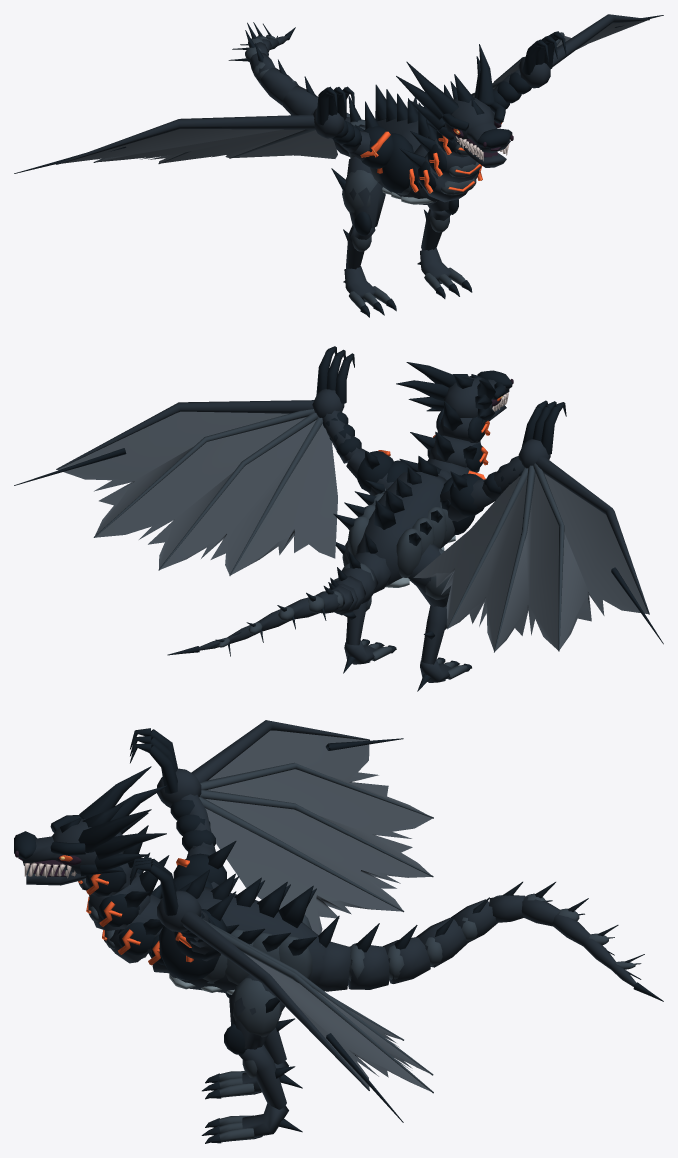
File: Obsidian_West_assembly.obj
3 renders of one model, top to bottom at view 1: azimuth 30°, elevation 25°; view 2: azimuth 150°, elevation 25°; view 3: azimuth 270°, elevation 25°, orthographic. The views are drawn at different scales.
Parts seen in each view (by area): view 1: Head, Torso, L_Wing_Finger_1, L_Leg_Thigh, L_Wing_Membrane_1, Neck_02, L_Wing_Membrane_4, Neck_03, L_Wing_Hand, R_Wing_Hand, L_Wing_UpperArm, R_Foot (+15 smaller); view 2: Torso, R_Wing_Membrane_2, R_Wing_Membrane_1, L_Wing_Membrane_1, R_Wing_Membrane_4, R_Wing_Membrane_3, L_Wing_Membrane_2, L_Wing_Membrane_3, Head, L_Wing_Membrane_4, R_Wing_Finger_1, L_Wing_Finger_1 (+23 smaller); view 3: Torso, Head, L_Wing_Membrane_4, L_Wing_Membrane_2, L_Wing_Membrane_3, L_Wing_Membrane_1, R_Wing_Membrane_1, R_Wing_Finger_1, R_Leg_Thigh, Neck_03, L_Wing_Hand, L_Wing_Finger_1 (+27 smaller).
Boxes of the visible parts, x1=… form: Head: x1=396, y1=44, x2=513, y2=161; Torso: x1=349, y1=84, x2=436, y2=205; L_Wing_Finger_1: x1=14, y1=114, x2=315, y2=173; L_Leg_Thigh: x1=331, y1=156, x2=385, y2=236; L_Wing_Membrane_1: x1=62, y1=129, x2=283, y2=163; Neck_02: x1=399, y1=119, x2=482, y2=202; L_Wing_Membrane_4: x1=233, y1=130, x2=337, y2=158; Neck_03: x1=410, y1=131, x2=481, y2=182; L_Wing_Hand: x1=313, y1=86, x2=354, y2=138; R_Wing_Hand: x1=518, y1=31, x2=566, y2=88; L_Wing_UpperArm: x1=349, y1=102, x2=394, y2=169; R_Foot: x1=417, y1=247, x2=472, y2=298; Torso: x1=333, y1=456, x2=475, y2=587; R_Wing_Membrane_2: x1=95, y1=417, x2=306, y2=568; R_Wing_Membrane_1: x1=57, y1=411, x2=288, y2=535; L_Wing_Membrane_1: x1=544, y1=473, x2=648, y2=649; R_Wing_Membrane_4: x1=231, y1=423, x2=337, y2=574; R_Wing_Membrane_3: x1=160, y1=420, x2=316, y2=574; L_Wing_Membrane_2: x1=495, y1=473, x2=558, y2=651; L_Wing_Membrane_3: x1=449, y1=478, x2=527, y2=650; Head: x1=396, y1=362, x2=513, y2=424; L_Wing_Membrane_4: x1=413, y1=475, x2=520, y2=627; R_Wing_Finger_1: x1=14, y1=400, x2=314, y2=485; L_Wing_Finger_1: x1=535, y1=456, x2=663, y2=644; Torso: x1=159, y1=869, x2=326, y2=994; Head: x1=14, y1=766, x2=166, y2=878; L_Wing_Membrane_4: x1=205, y1=808, x2=402, y2=935; L_Wing_Membrane_2: x1=207, y1=769, x2=432, y2=874; L_Wing_Membrane_3: x1=205, y1=799, x2=431, y2=909; L_Wing_Membrane_1: x1=208, y1=730, x2=426, y2=814; R_Wing_Membrane_1: x1=244, y1=953, x2=431, y2=1091; R_Wing_Finger_1: x1=181, y1=911, x2=403, y2=1122; R_Leg_Thigh: x1=224, y1=974, x2=284, y2=1054; Neck_03: x1=86, y1=852, x2=169, y2=930; L_Wing_Hand: x1=130, y1=728, x2=201, y2=807; L_Wing_Finger_1: x1=191, y1=720, x2=403, y2=783.
Bounding box in the file's own units: 19.29 × 7.65 × 13.79.
Materials: 1 (1 with a texture image).
